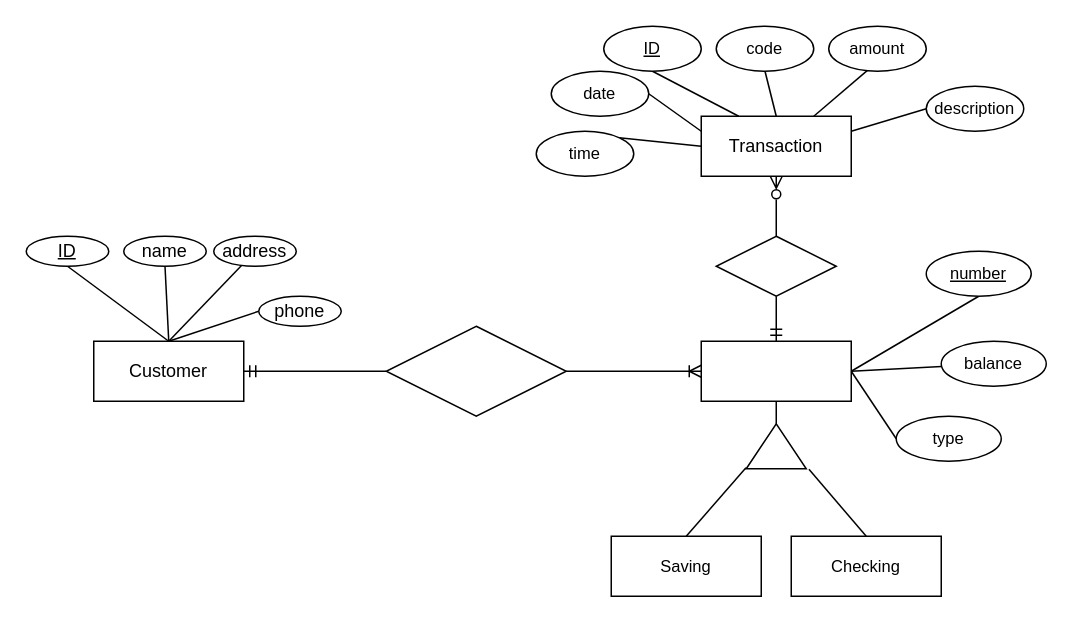
The diagram is 1073 pixels wide and 623 high, and some of its shapes have lost their labels. The shapes that lost their labels are listed below. From the top down, each one's centre as x and y in pixels, then its label:
[775,265]: performs
[475,370]: owns
[775,370]: Account
